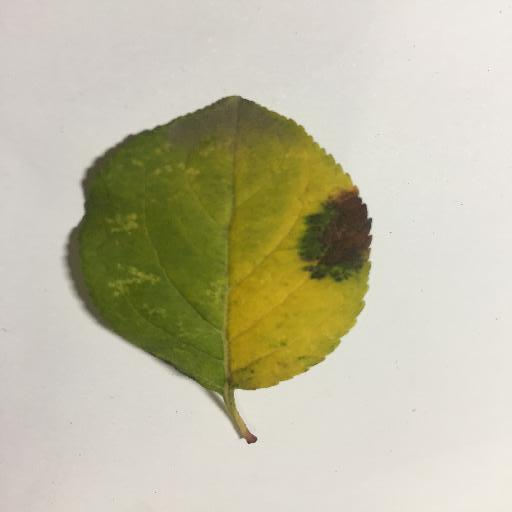Brown_Spot: (294, 183, 377, 277)
